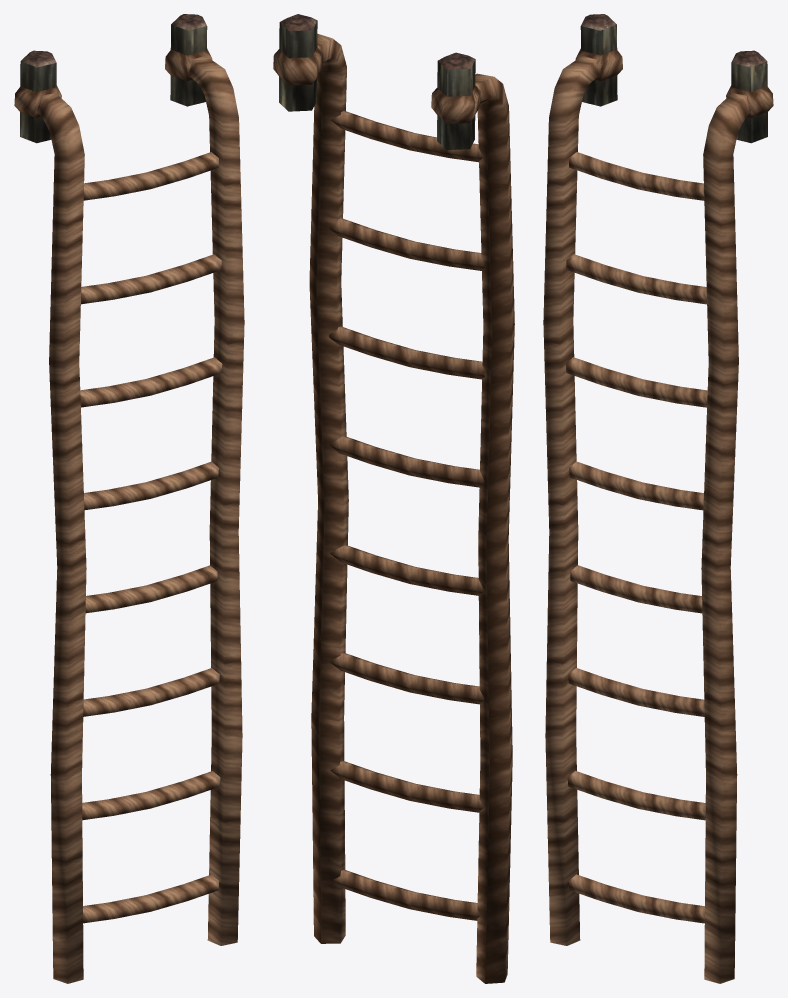
File: rope-ladder-02.fbx
3 renders of one model, left to right at view 1: azimuth 30°, elevation 25°; view 2: azimuth 150°, elevation 25°; view 3: azimuth 330°, elevation 25°, orthographic. The views are drawn at different scales.
Visible parts, largest first — view 1: Cylinder.077; view 2: Cylinder.077; view 3: Cylinder.077.
Boxes of the visible parts, x1,y1,x2,y2 form: Cylinder.077: [14, 14, 244, 983]; Cylinder.077: [273, 14, 514, 983]; Cylinder.077: [543, 14, 773, 983].
Bounding box in the file's own units: 0.9763 × 4.35 × 0.471.
